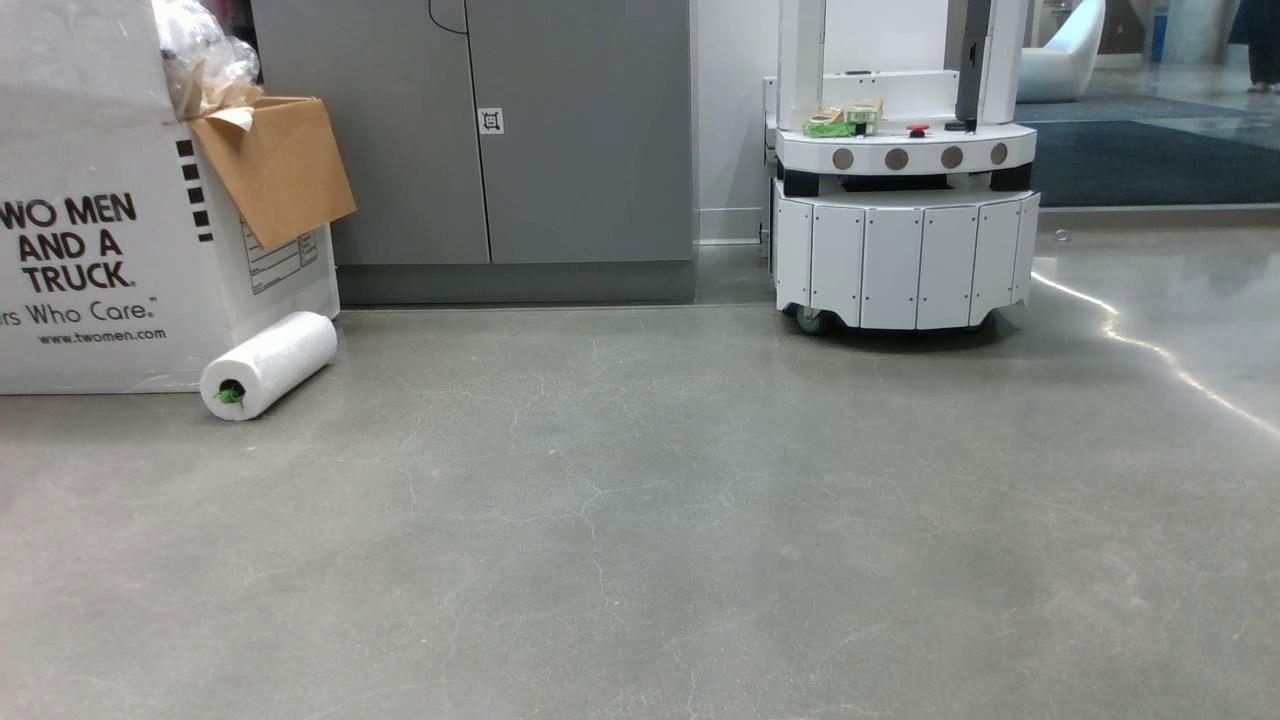grasshopper: (211, 381, 251, 408), (805, 123, 856, 135)
